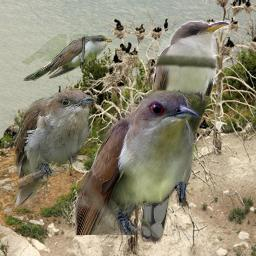Cuckoo: (140, 20, 231, 244), (75, 90, 201, 235), (11, 87, 96, 208), (22, 34, 112, 81)
